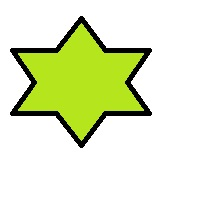star: (10, 16, 152, 148)
